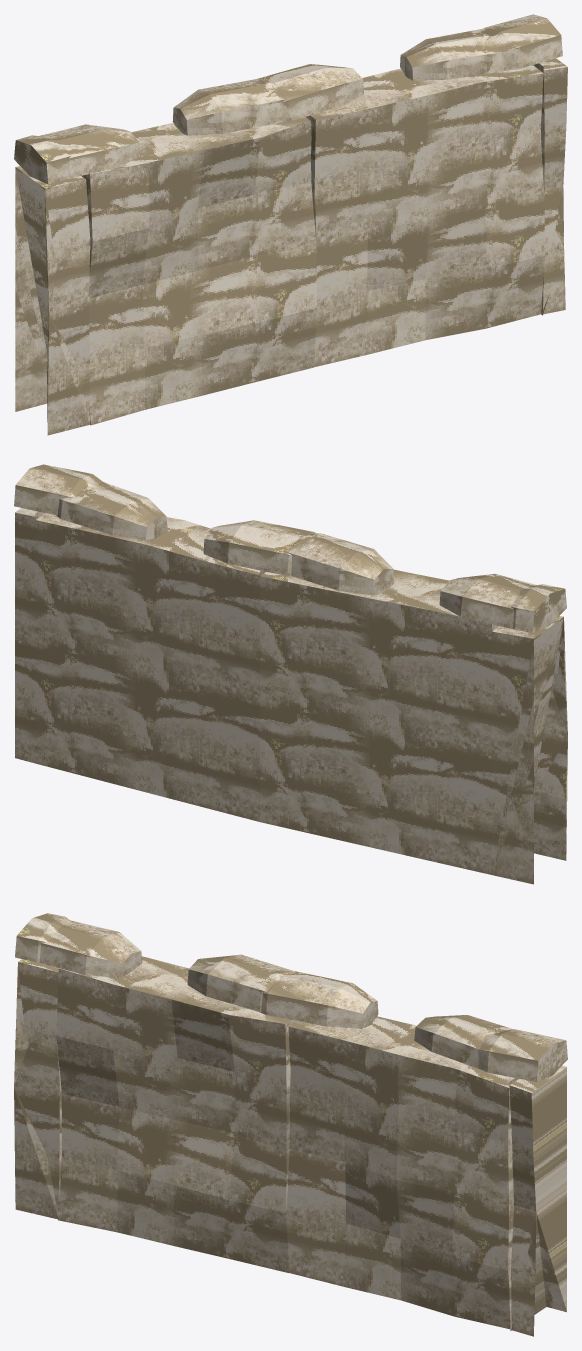
File: fb_sandbag_heavy.glb
3 renders of one model, top to bottom at view 1: azimuth 30°, elevation 25°; view 2: azimuth 150°, elevation 25°; view 3: azimuth 330°, elevation 25°, orthographic.
Visible parts, largest first — view 1: fb_sandbag_heavy; view 2: fb_sandbag_heavy; view 3: fb_sandbag_heavy.
Part boxes in pixels (x1=…): fb_sandbag_heavy: x1=14, y1=14, x2=567, y2=435; fb_sandbag_heavy: x1=14, y1=464, x2=567, y2=884; fb_sandbag_heavy: x1=14, y1=913, x2=567, y2=1336.
Size of what is drawn, in the model's own units: 2.28 by 1.18 by 0.3221.
1 material, 1 textured.
